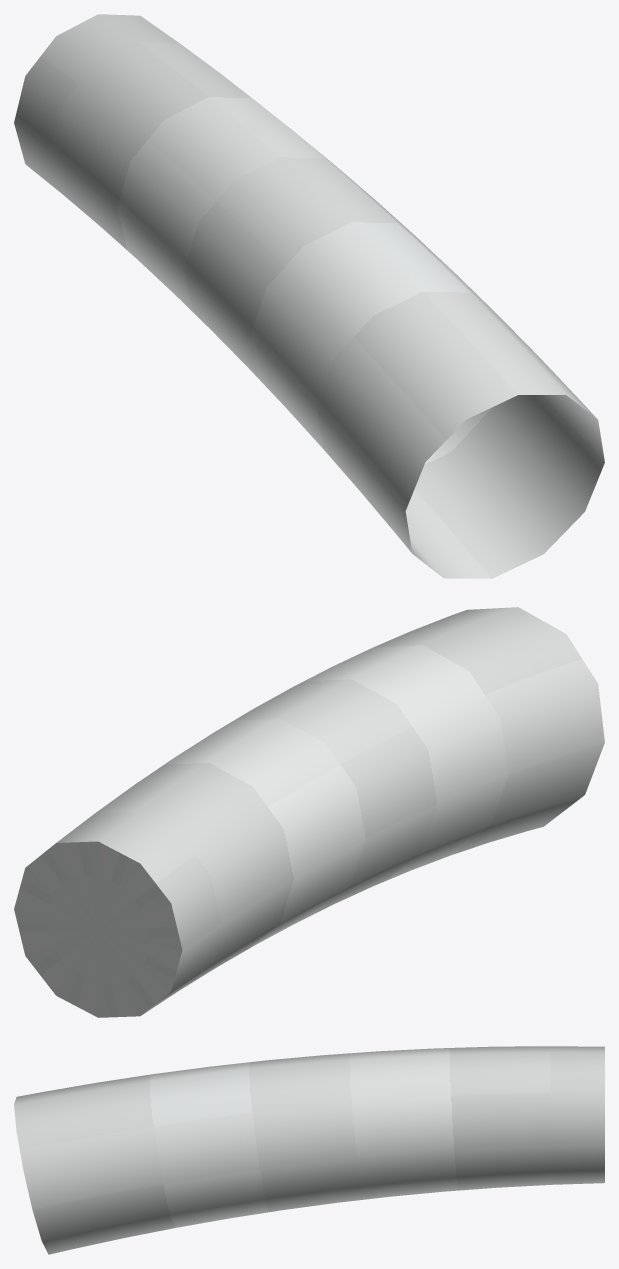
The model's file is luminairearm_caltrans6ft_c2.obj.
The picture shows the model from 3 angles, top to bottom: view 1: azimuth 30°, elevation 25°; view 2: azimuth 150°, elevation 25°; view 3: azimuth 270°, elevation 25°; orthographic projection. The views are drawn at different scales.
Visible parts, largest first — view 1: luminairearm_caltrans6ft_c2; view 2: luminairearm_caltrans6ft_c2; view 3: luminairearm_caltrans6ft_c2.
Part boxes in pixels (x1,y1,x2,y2): luminairearm_caltrans6ft_c2: [14, 14, 604, 578]; luminairearm_caltrans6ft_c2: [14, 607, 604, 1017]; luminairearm_caltrans6ft_c2: [14, 1046, 604, 1254].
Bounding box in the file's own units: 0.2071 × 0.275 × 0.7559.
